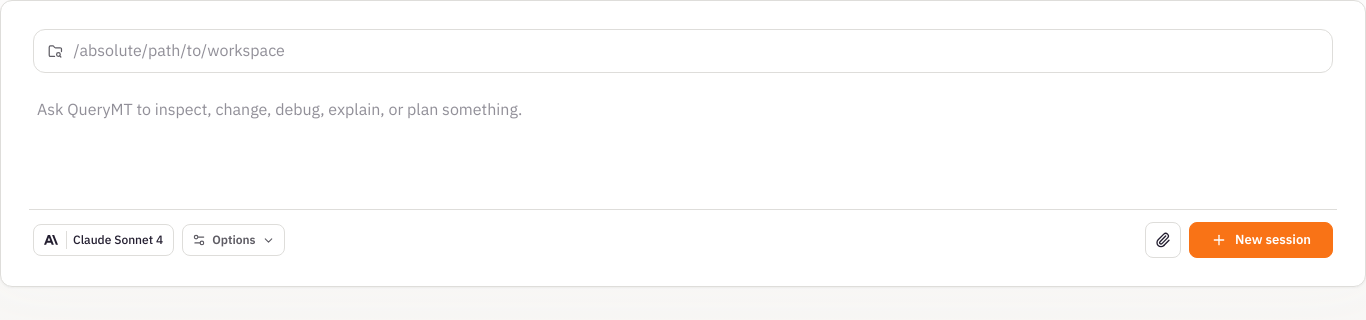
Test case: SessionComposer › moves target and profile into session options
Click the heading named "Session options" at point(233, 240), box top-left (182, 224), bottom-right (285, 256)
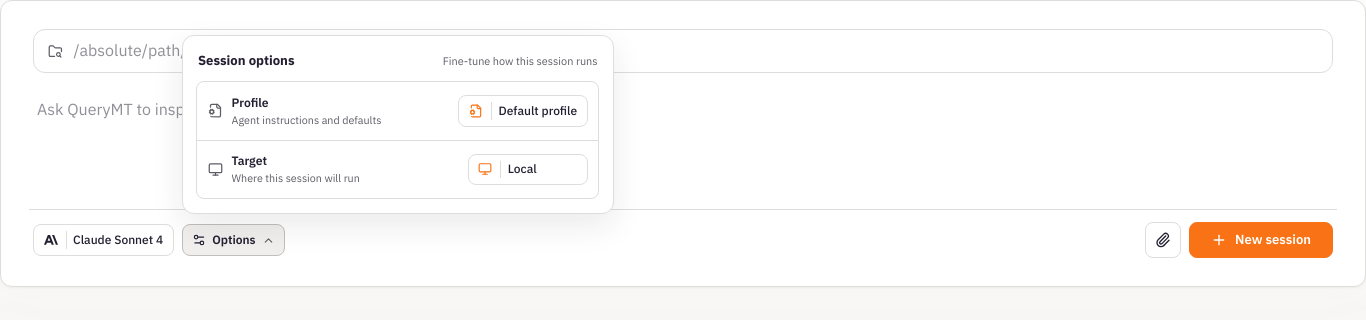
Now the button with aria-label "Session target" reads "Local", box top-left (468, 154), bottom-right (588, 185)
Now the button "Default profile" is shown, box top-left (458, 95), bottom-right (588, 127)
